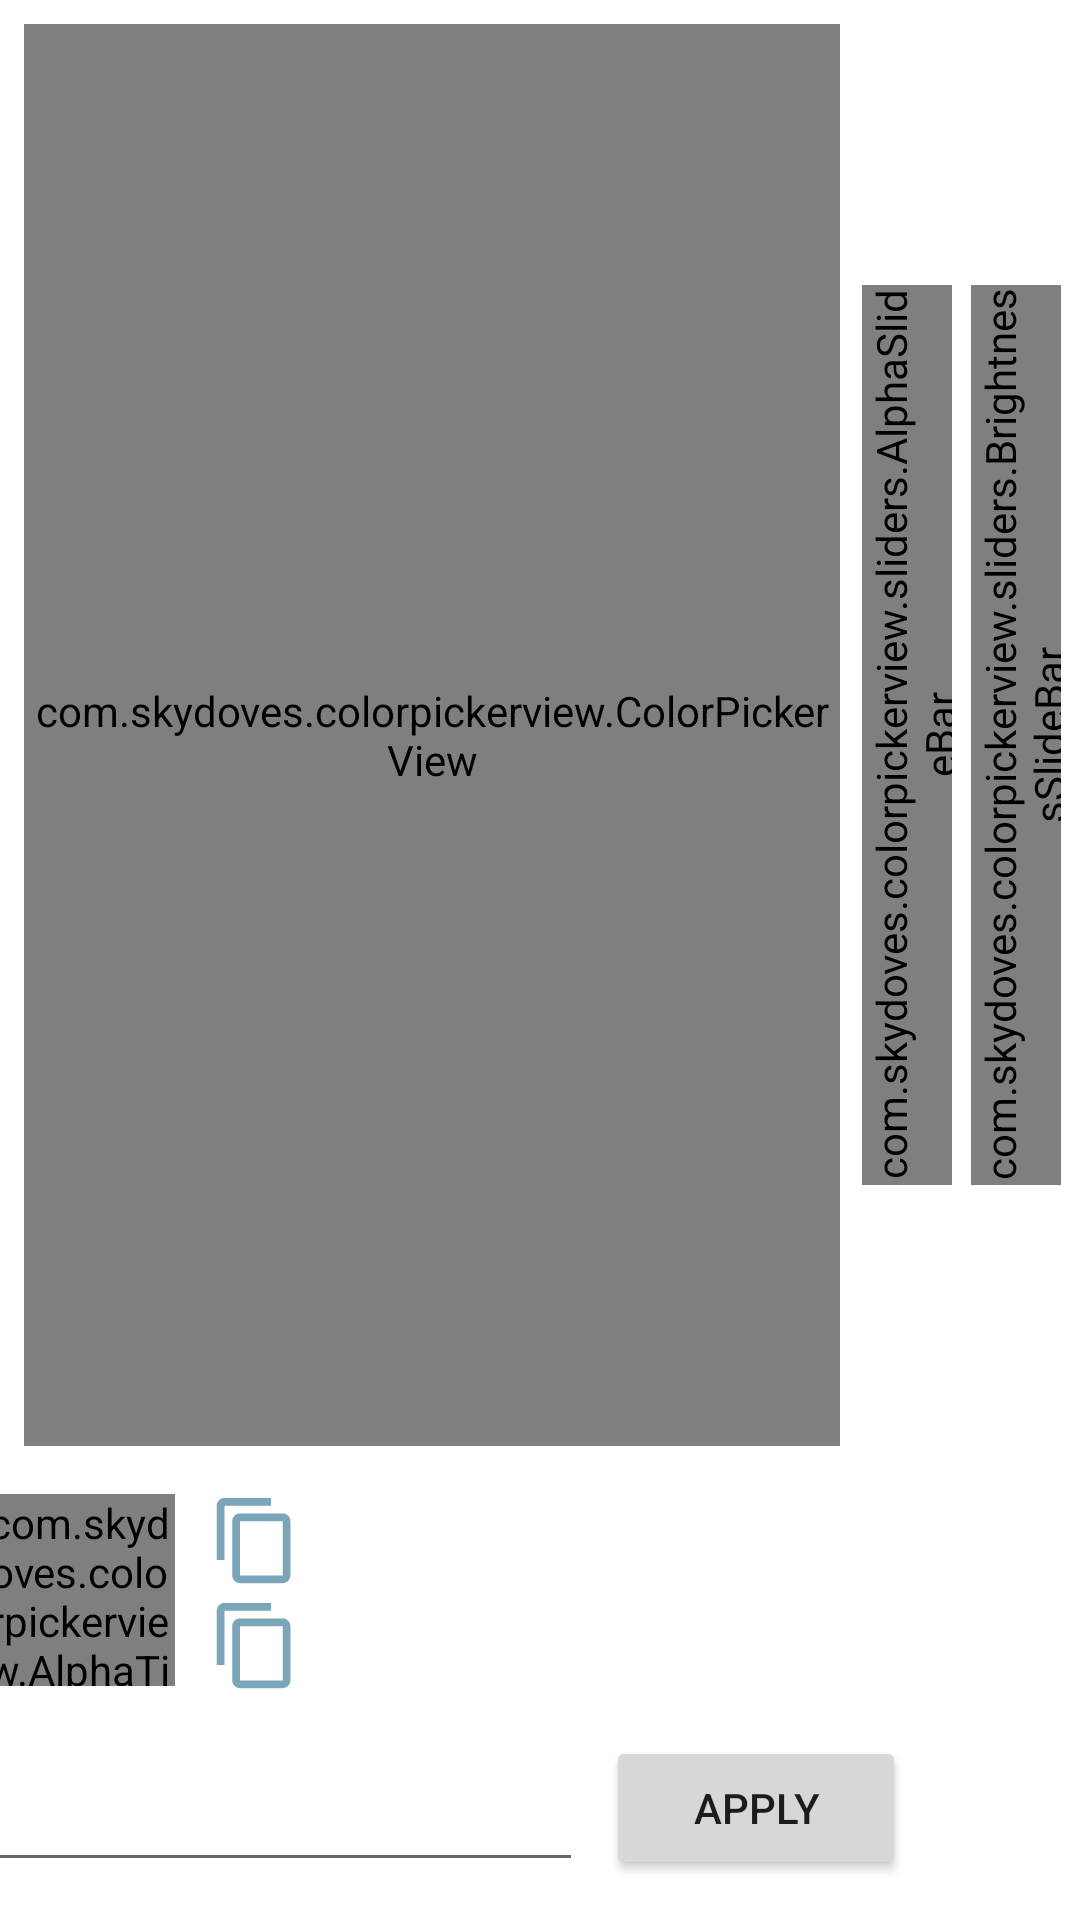

Named icons in this screenshot (1080w x 1920h) and their centers, [x,y]:
Copy Hex Value to Clipboard: [253,1541]
Copy RGB Value to Clipboard: [253,1646]
